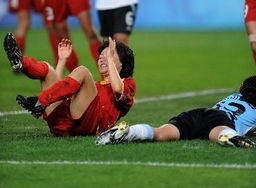falling: (101, 72, 255, 151)
